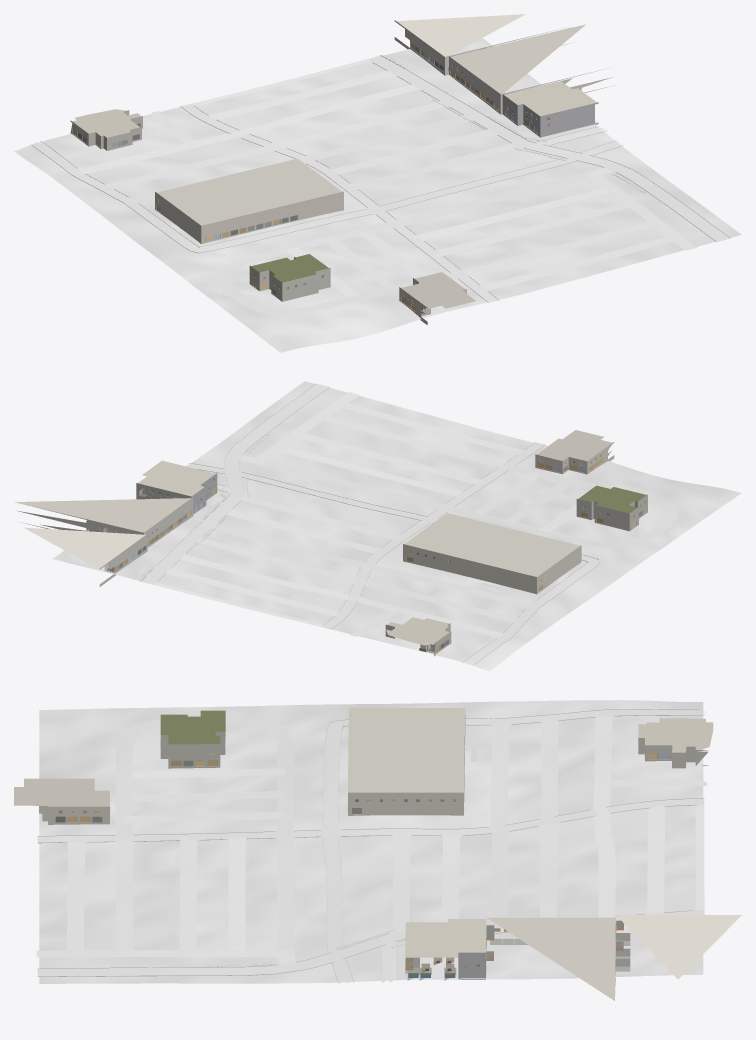
3 renders of one model, top to bottom at view 1: azimuth 30°, elevation 25°; view 2: azimuth 150°, elevation 25°; view 3: azimuth 270°, elevation 25°, orthographic. The views are drawn at different scales.
Visible parts, largest first — view 1: ground, concrete, roof_flat, wall_com, asphalt, curb, glass_lit, walk, glass; view 2: ground, concrete, roof_flat, wall_com, asphalt, curb, glass_lit, walk; view 3: ground, concrete, roof_flat, wall_com, asphalt, curb, room, glass_lit.
Boxes of the visible parts, x1,y1,x2,y2 form: ground: (14, 38, 741, 352); concrete: (34, 58, 696, 315); roof_flat: (72, 14, 596, 308); wall_com: (70, 20, 615, 324); asphalt: (368, 55, 730, 241); curb: (30, 55, 730, 302); glass_lit: (73, 43, 557, 311); walk: (381, 55, 646, 192); glass: (78, 46, 549, 299); ground: (53, 381, 741, 671); concrete: (149, 392, 677, 664); roof_flat: (14, 430, 646, 645); wall_com: (16, 442, 647, 656); asphalt: (141, 383, 328, 584); curb: (140, 383, 599, 665); glass_lit: (114, 454, 645, 652); walk: (138, 434, 502, 589); ground: (39, 700, 703, 983); concrete: (36, 709, 706, 983); roof_flat: (14, 707, 741, 1000); wall_com: (39, 713, 708, 985); asphalt: (37, 910, 704, 976); curb: (37, 709, 705, 982); room: (67, 754, 669, 980); glass_lit: (68, 753, 669, 967).
Size of the model in its own units: 291 by 17.69 by 274.
